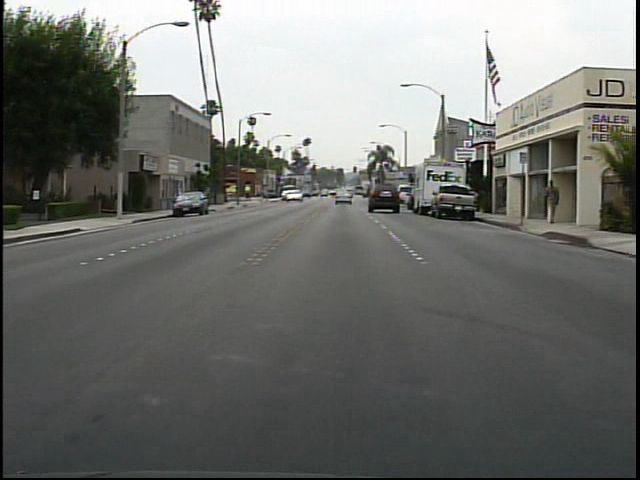person: (538, 176, 564, 229)
